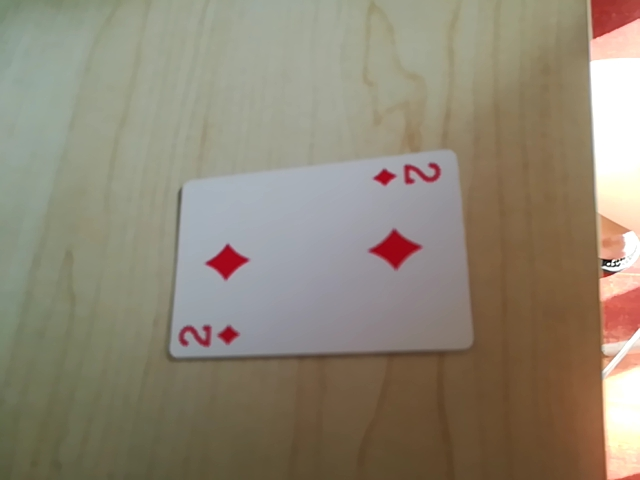fk 2: (368, 156, 450, 193), (174, 321, 245, 355), (604, 220, 637, 278)
